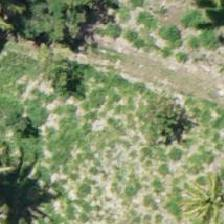coconut_tree: (162, 159, 223, 223)
